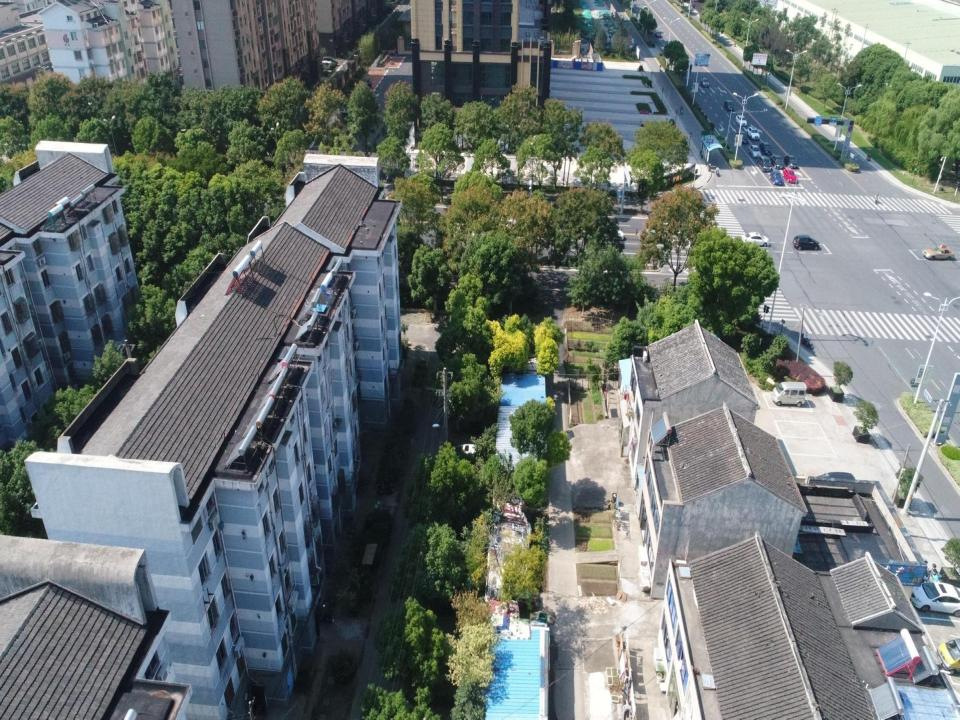car: (910, 580, 959, 618), (595, 224, 625, 244), (791, 231, 822, 250), (741, 230, 772, 246), (922, 244, 955, 259), (783, 166, 798, 188), (756, 154, 772, 174), (784, 154, 800, 172), (748, 124, 759, 142), (770, 172, 783, 185), (761, 142, 773, 156), (734, 113, 748, 125), (774, 153, 784, 168), (725, 97, 735, 111), (748, 144, 759, 156), (700, 76, 709, 88)
van: (772, 380, 807, 407)
